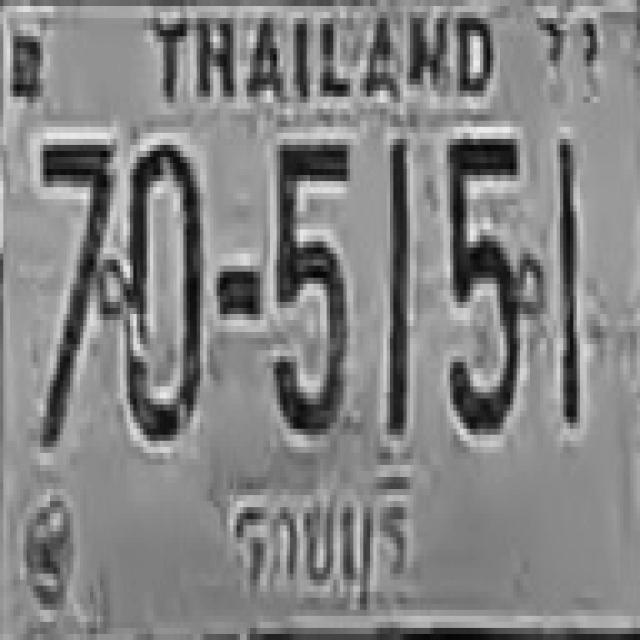0: (120, 139, 200, 441)
1: (385, 133, 408, 435), (557, 139, 580, 423)
5: (447, 133, 523, 435), (272, 136, 348, 432)
7: (38, 139, 112, 447)
Ratchaburi: (220, 466, 432, 630)
